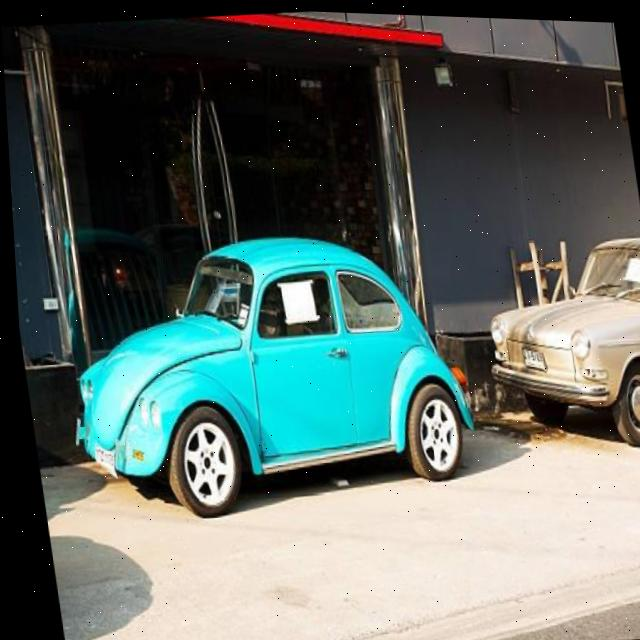vehicle: (44, 215, 478, 516), (474, 228, 640, 449)
